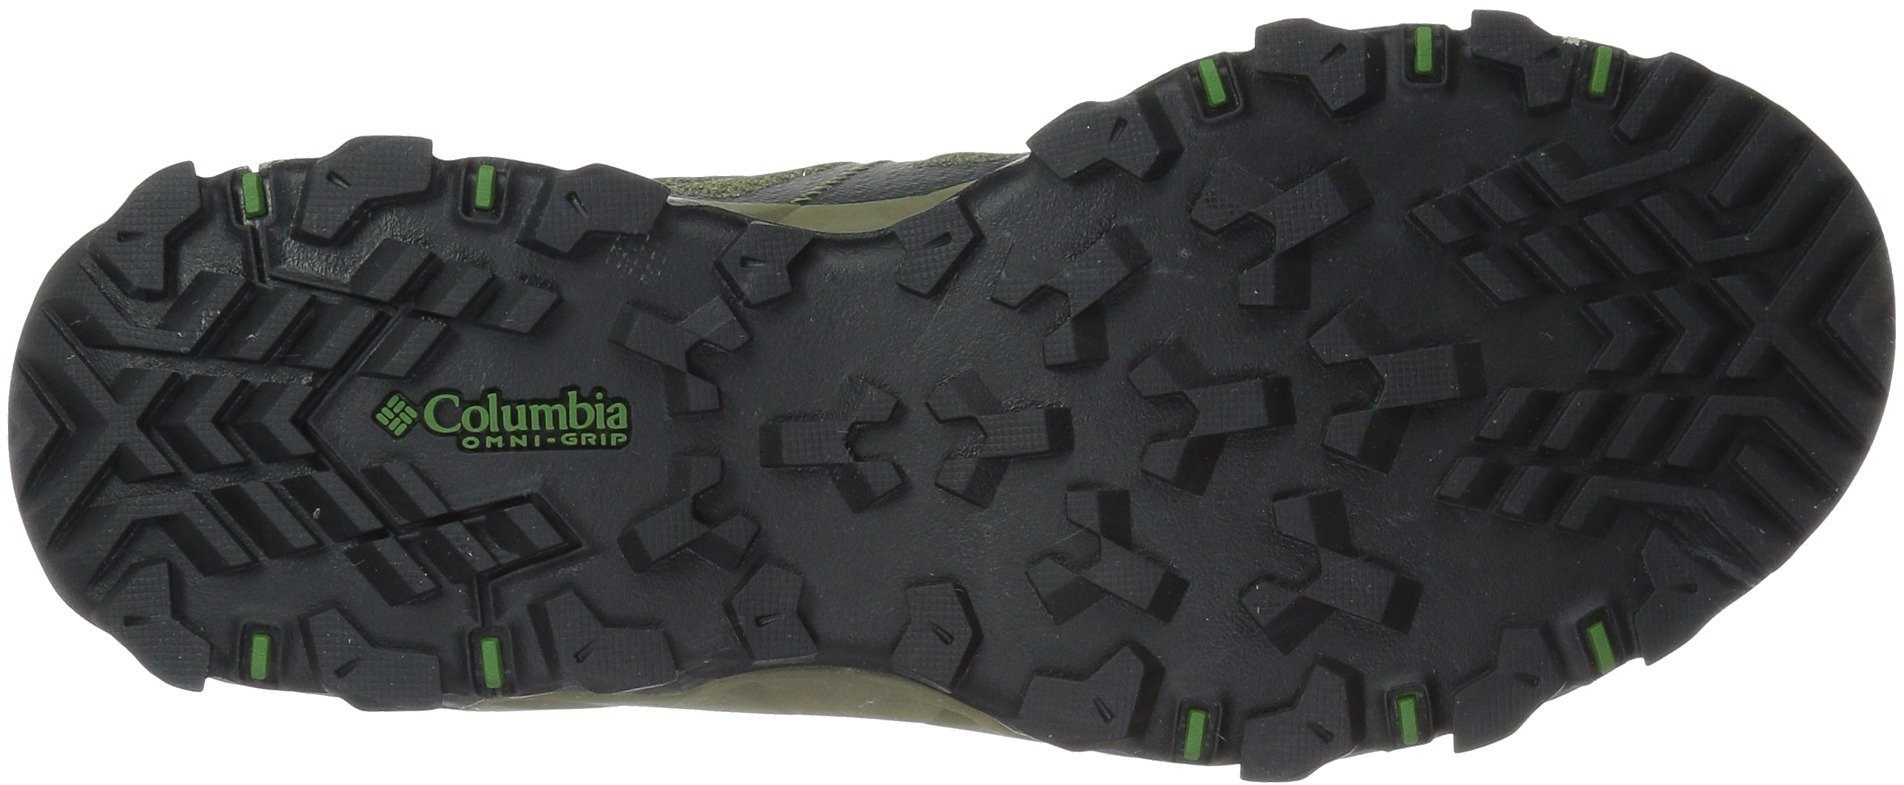chevron: (529, 572, 702, 710), (291, 123, 449, 271), (297, 588, 454, 735), (1228, 653, 1378, 779), (1007, 87, 1174, 201), (1245, 15, 1396, 130), (1456, 1, 1592, 124)
quad: (161, 224, 546, 382), (214, 598, 291, 719), (212, 140, 291, 241), (1392, 2, 1463, 111), (461, 610, 531, 719), (1373, 660, 1439, 764), (1162, 679, 1231, 776), (454, 135, 522, 222)
star: (1008, 300, 1498, 643), (1158, 157, 1385, 327), (752, 375, 933, 531)
text: (362, 378, 653, 462), (410, 375, 646, 448)
